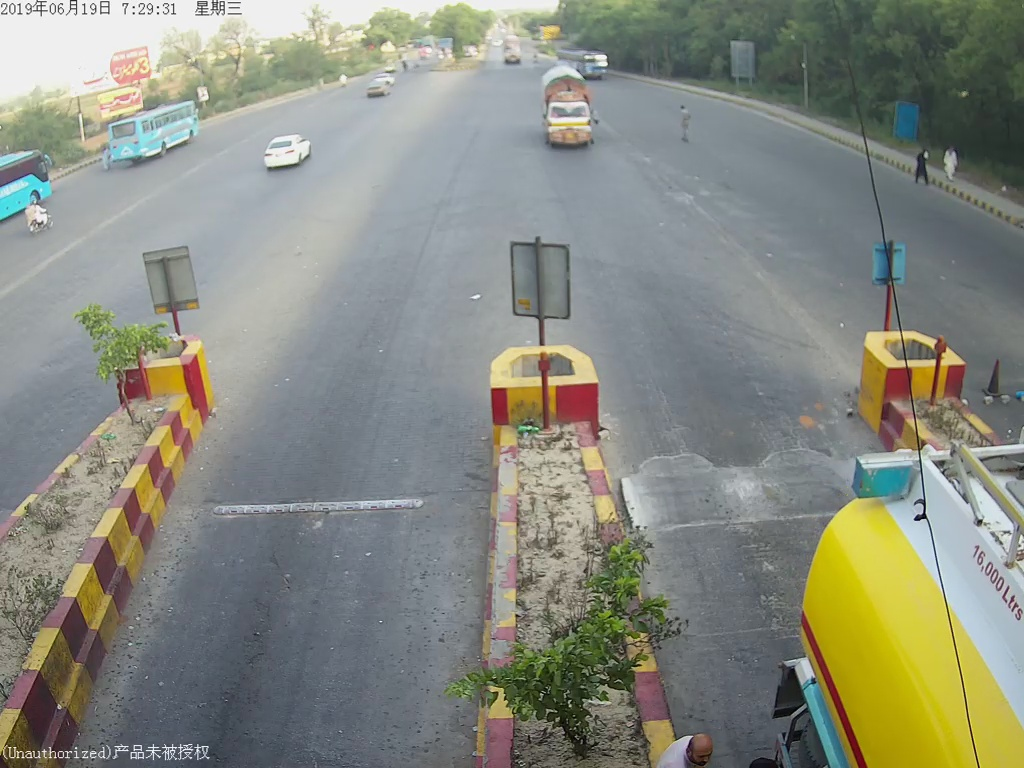Cat-4: (531, 67, 607, 155)
